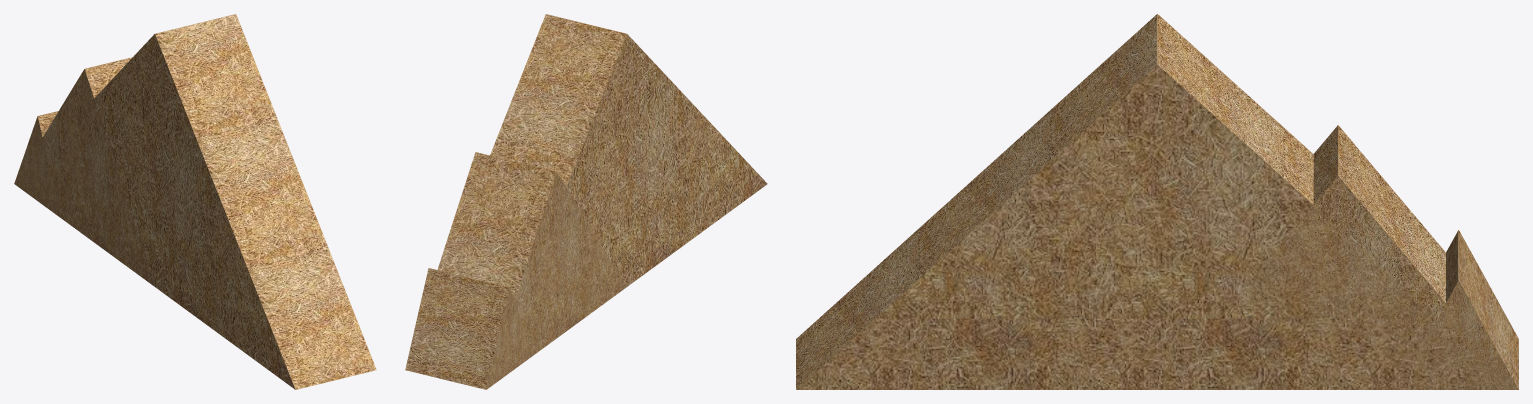
File: TestingCelling.fbx
3 renders of one model, left to right at view 1: azimuth 30°, elevation 25°; view 2: azimuth 150°, elevation 25°; view 3: azimuth 270°, elevation 25°, orthographic. The views are drawn at different scales.
Parts seen in each view (by area): view 1: Cube.002, Cube.001, Cube; view 2: Cube.002, Cube.001, Cube; view 3: Cube.002, Cube.001, Cube.
Boxes of the visible parts, x1,y1,x2,y2 form: Cube.002: (16, 14, 376, 389); Cube.001: (15, 57, 154, 286); Cube: (14, 111, 60, 217); Cube.002: (489, 14, 767, 387); Cube.001: (437, 152, 626, 388); Cube: (405, 268, 532, 389); Cube.002: (796, 14, 1518, 389); Cube.001: (1220, 125, 1518, 389); Cube: (1426, 230, 1518, 389).
Bounding box in the file's own units: 100 × 298 × 600.
Materials: 1 (1 with a texture image).
